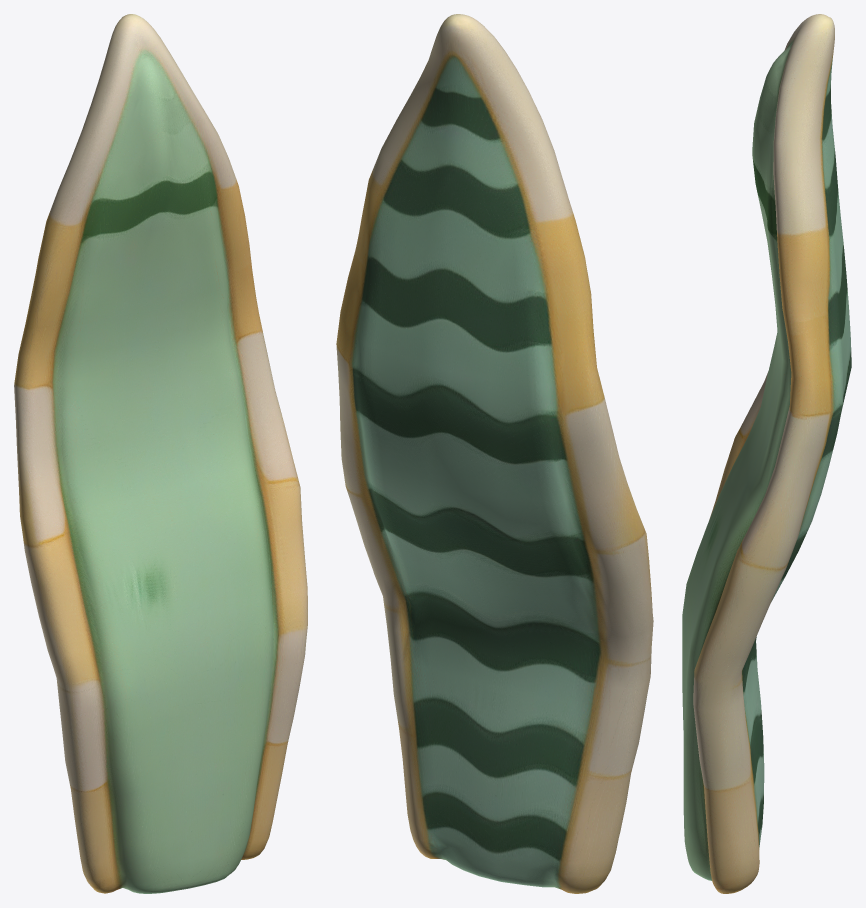
File: T1_sanse_meshy5_base.glb
3 views of the same model, side by side, from view 1: azimuth 30°, elevation 25°; view 2: azimuth 150°, elevation 25°; view 3: azimuth 270°, elevation 25° (orthographic). The views are drawn at different scales.
Size of the model in its own units: 0.6841 by 2 by 0.3652.
Materials: 1 (1 with a texture image).
